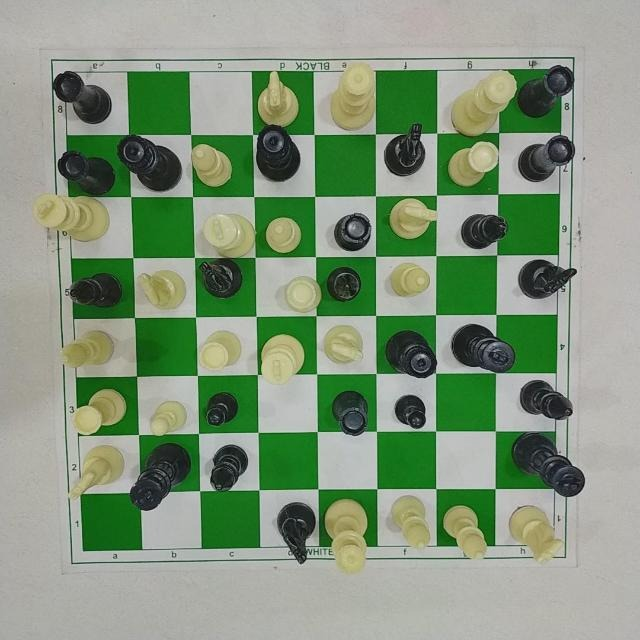black-bishop: (512, 373, 581, 429), (203, 437, 262, 501), (58, 268, 128, 320), (457, 202, 514, 256), (323, 262, 369, 310)
black-king: (505, 428, 592, 508), (121, 439, 198, 519), (447, 316, 523, 377)
black-knight: (267, 491, 320, 575), (372, 121, 438, 187), (506, 248, 588, 301), (192, 252, 253, 304)
black-pawn: (195, 392, 252, 434), (390, 388, 438, 435)
black-queen: (113, 124, 184, 194), (248, 118, 310, 187), (380, 323, 439, 381)
black-rook: (43, 60, 123, 124), (515, 124, 587, 182), (513, 64, 580, 120), (54, 143, 123, 197), (324, 203, 376, 259), (329, 384, 378, 443)
white-bishop: (434, 497, 494, 575), (384, 481, 439, 557), (183, 133, 245, 195), (55, 323, 119, 375), (381, 248, 439, 304), (261, 207, 307, 263)
white-king: (33, 193, 121, 251), (198, 202, 264, 263), (254, 326, 309, 387)
white-knight: (504, 498, 570, 567), (65, 436, 131, 505), (251, 62, 307, 131), (133, 262, 192, 320), (380, 194, 437, 248), (318, 320, 374, 372)
white-pawn: (145, 394, 193, 441)
white-queen: (441, 62, 523, 144), (323, 493, 381, 581), (323, 55, 381, 135)
white-rook: (439, 135, 508, 190), (64, 383, 129, 437), (198, 324, 245, 377), (281, 270, 325, 320)
